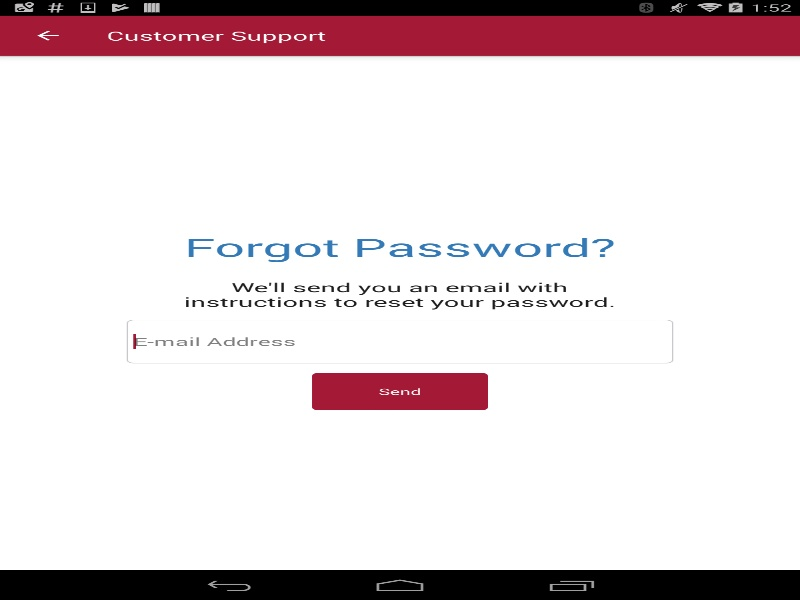Button: (312, 372, 488, 410), (10, 15, 85, 55)
Input: (133, 322, 666, 360)
